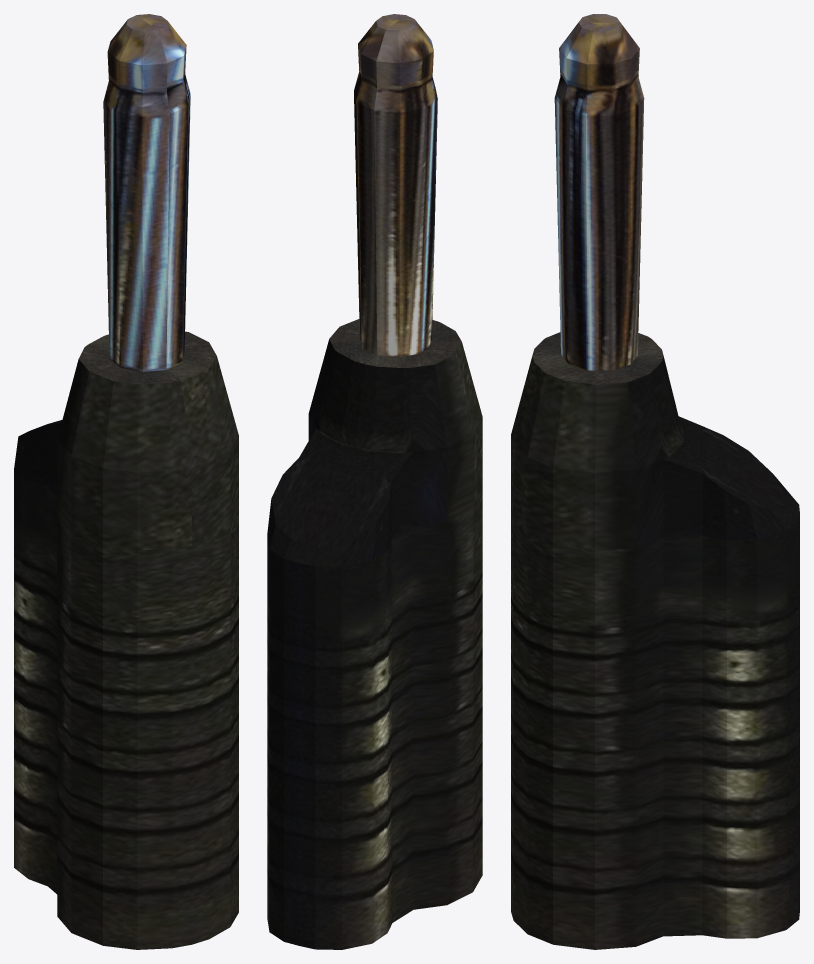
File: big_plug.fbx
3 views of the same model, side by side, from view 1: azimuth 30°, elevation 25°; view 2: azimuth 150°, elevation 25°; view 3: azimuth 270°, elevation 25° (orthographic). The views are drawn at different scales.
Visible parts, largest first — view 1: big_plug; view 2: big_plug; view 3: big_plug.
Part boxes in pixels (box(x1,y1,x2,y2)): big_plug: box(14, 14, 238, 949); big_plug: box(267, 14, 482, 949); big_plug: box(511, 14, 799, 949).
Size of the model in its own units: 18.09 by 97.8 by 28.82.
Materials: 1 (1 with a texture image).
